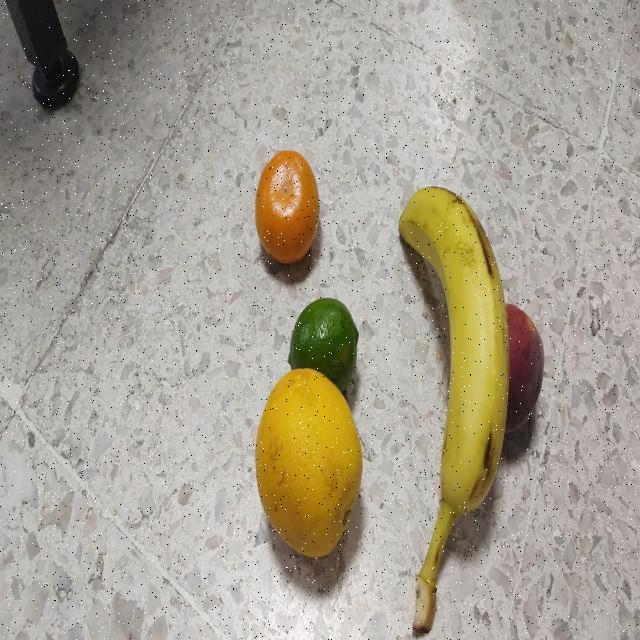Jeruk: (250, 367, 366, 566)
Jeruk Mandarin: (253, 148, 323, 270)
Lemon: (284, 298, 364, 386)
Persik: (491, 296, 548, 436)
Pisang: (394, 176, 514, 640)
